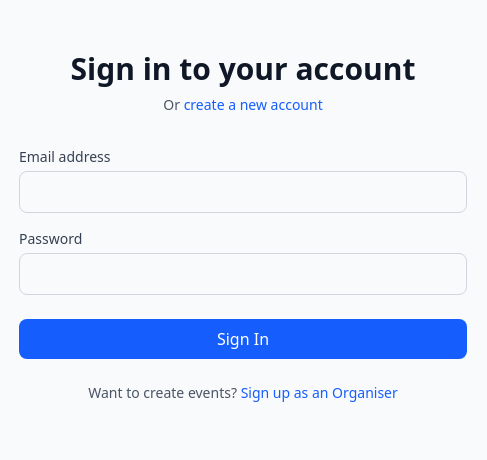
Scenario: LoginView › clears the error message when a new login attempt begins
Type "test@example.com" into the field labelled "Email address" at (243,192), box [19, 171, 467, 213]
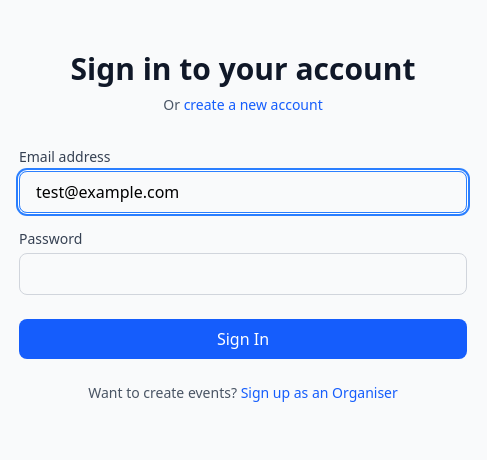
Type "wrongpassword" into the password field labelled "Password" at (243,274), box [19, 253, 467, 295]
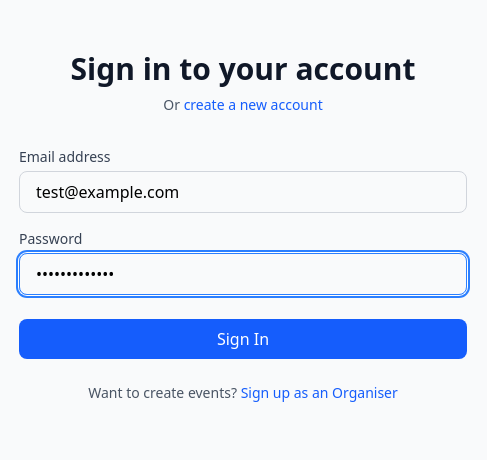
Click the button "Sign In" at (243,339), box [19, 319, 467, 359]
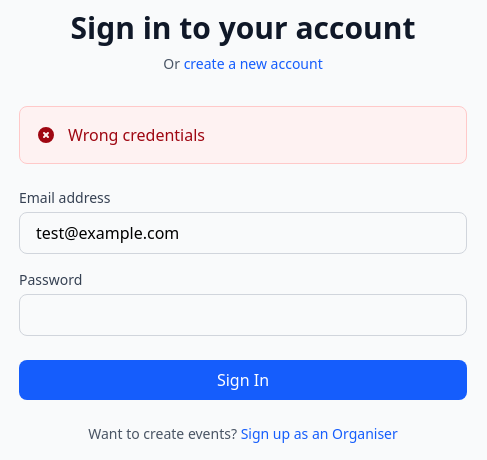
Expected: the text "Wrong credentials" is shown, [68, 124, 205, 146]
Type "correctpassword" into the password field labelled "Password" at (243,315), box [19, 294, 467, 336]
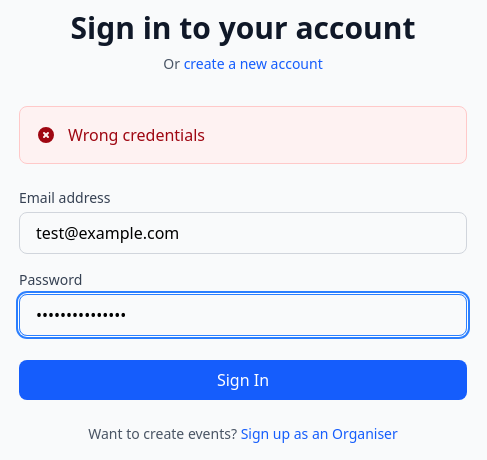
Click the button "Sign In" at (243,380), box [19, 360, 467, 400]
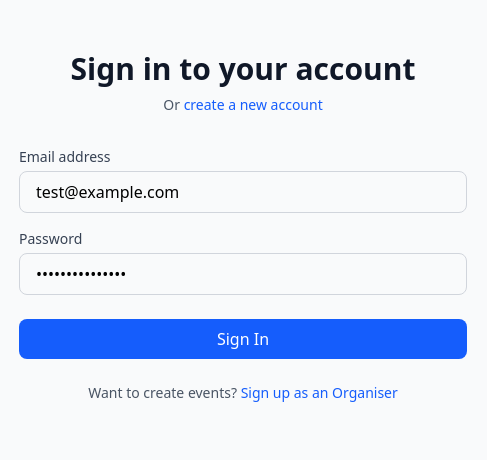
Expected: the text "Wrong credentials" is gone
